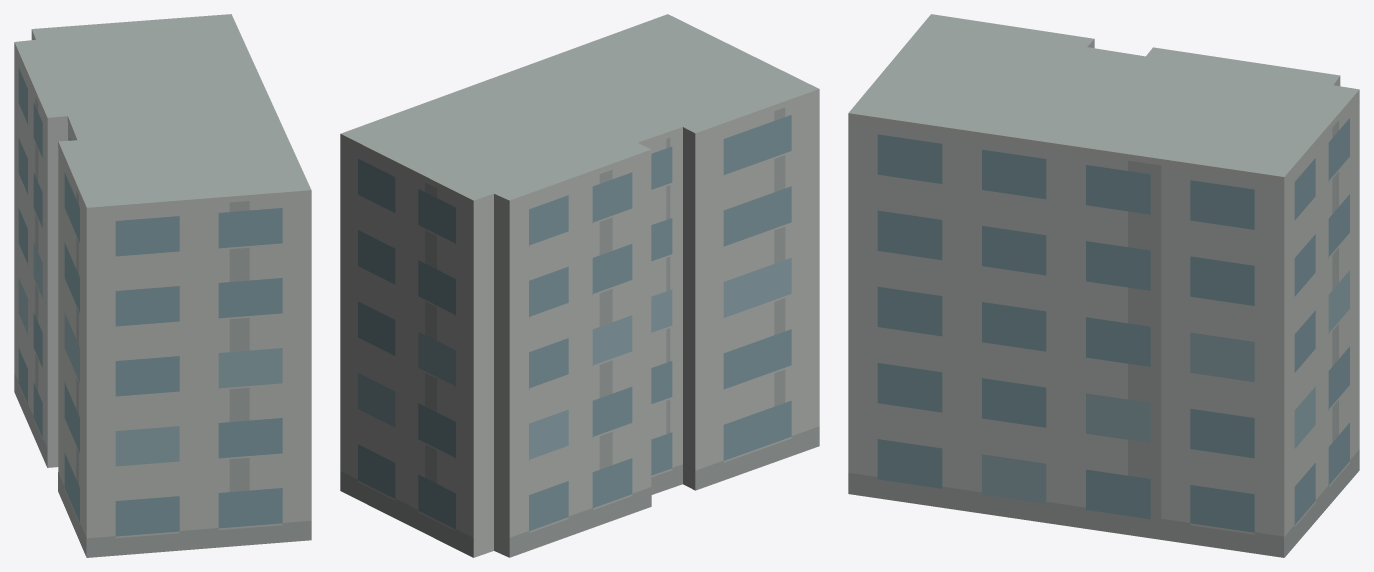
Rendered from survey-upis-32951763.glb.
3 renders of one model, left to right at view 1: azimuth 30°, elevation 25°; view 2: azimuth 150°, elevation 25°; view 3: azimuth 270°, elevation 25°, orthographic. The views are drawn at different scales.
Parts seen in each view (by area): view 1: survey-upis-32951763.tmp; view 2: survey-upis-32951763.tmp; view 3: survey-upis-32951763.tmp.
Boxes of the visible parts, x1,y1,x2,y2 form: survey-upis-32951763.tmp: [14, 14, 311, 557]; survey-upis-32951763.tmp: [340, 14, 819, 557]; survey-upis-32951763.tmp: [848, 14, 1359, 557].
Size of the model in its own units: 13.14 by 14.3 by 17.41.
